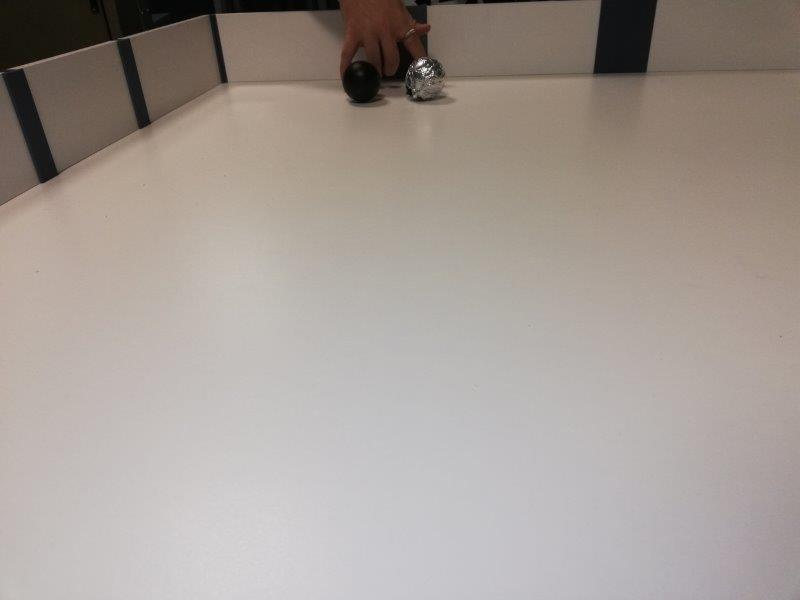bianca: (407, 59, 448, 100)
nera: (341, 62, 380, 101)
